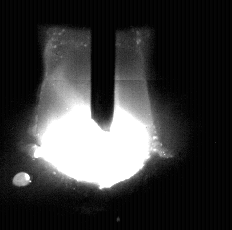arame: (91, 0, 115, 133)
poca: (31, 0, 157, 230)
